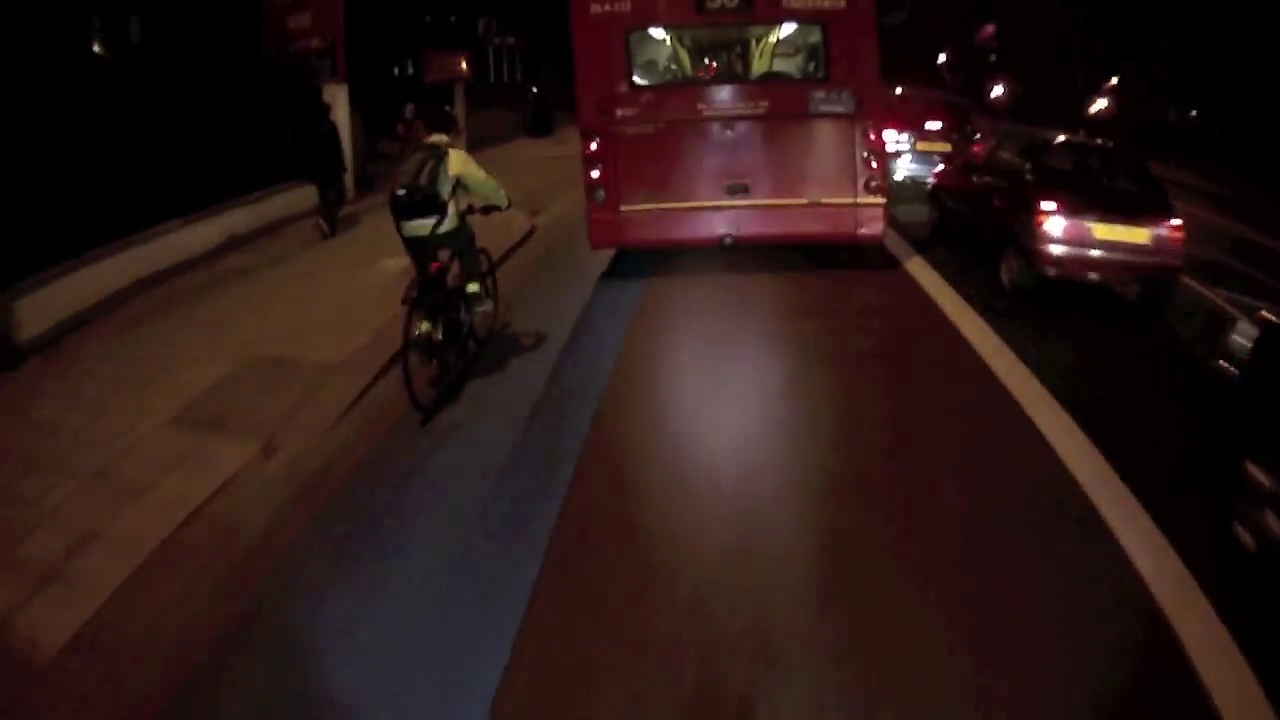cyclist_back: (381, 115, 512, 402)
